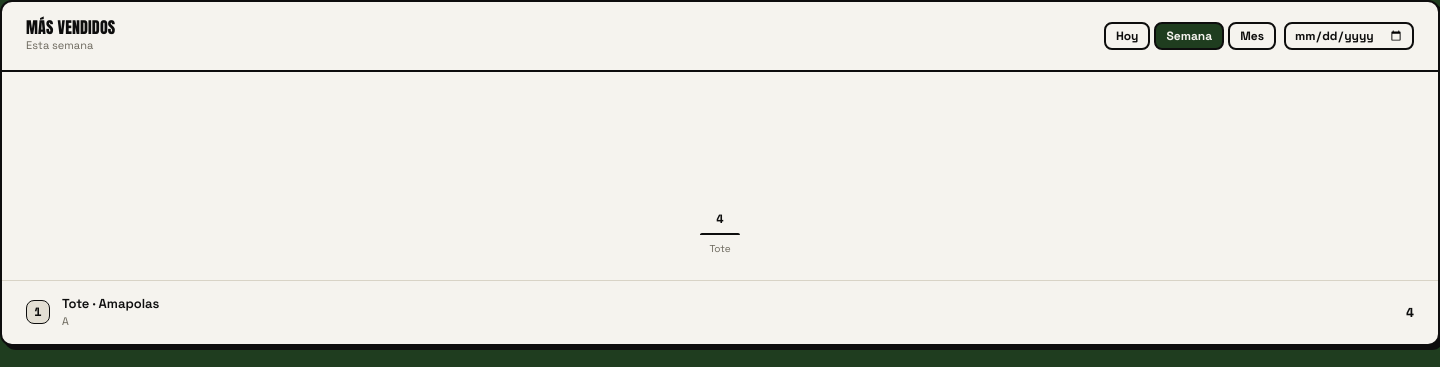
Test: TopProductsSection — cambio de periodo › un refetch fallido muestra un aviso, sin tirar la sección completa
This screenshot has width=1440, height=367.
Click the button "Mes".
click(1252, 36)  # box 1228,22 -> 1276,50
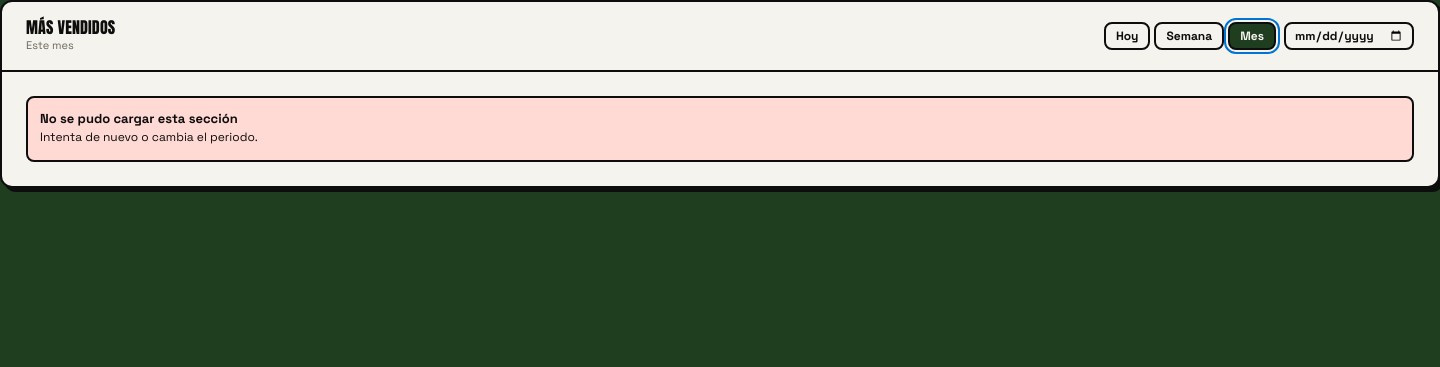
Expected: the message "No se pudo cargar esta sección Intenta de nuevo o cambia el periodo." is shown, 26,96 -> 1414,162
